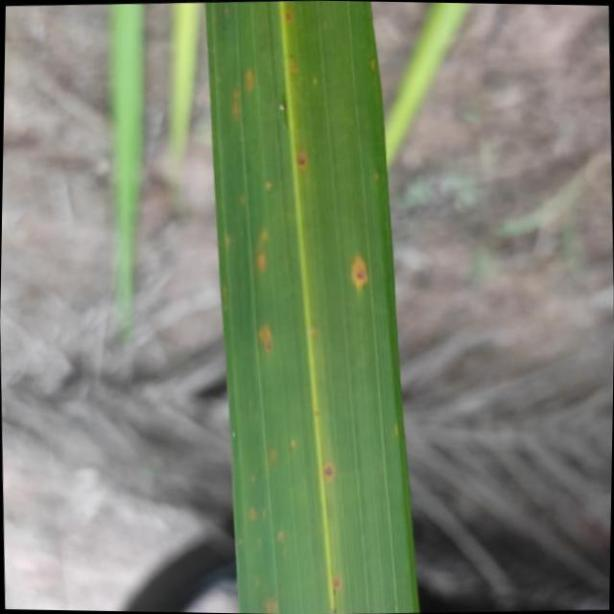Kalium: (206, 0, 421, 614)
